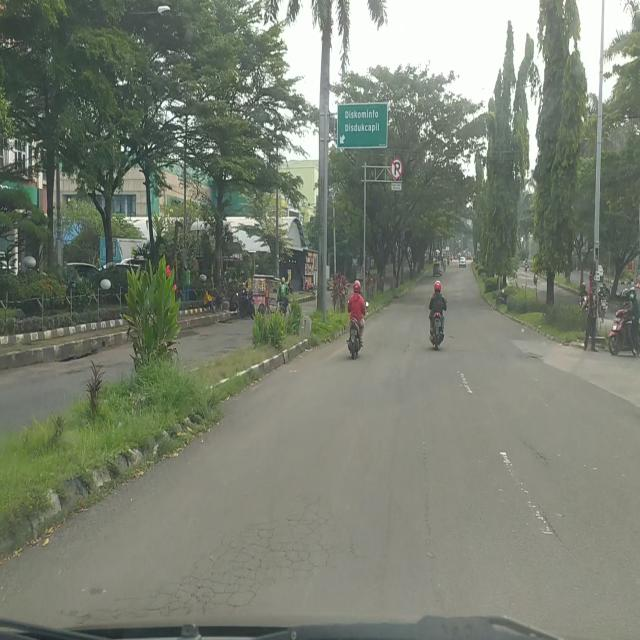Drain Hole: (110, 502, 344, 620)
